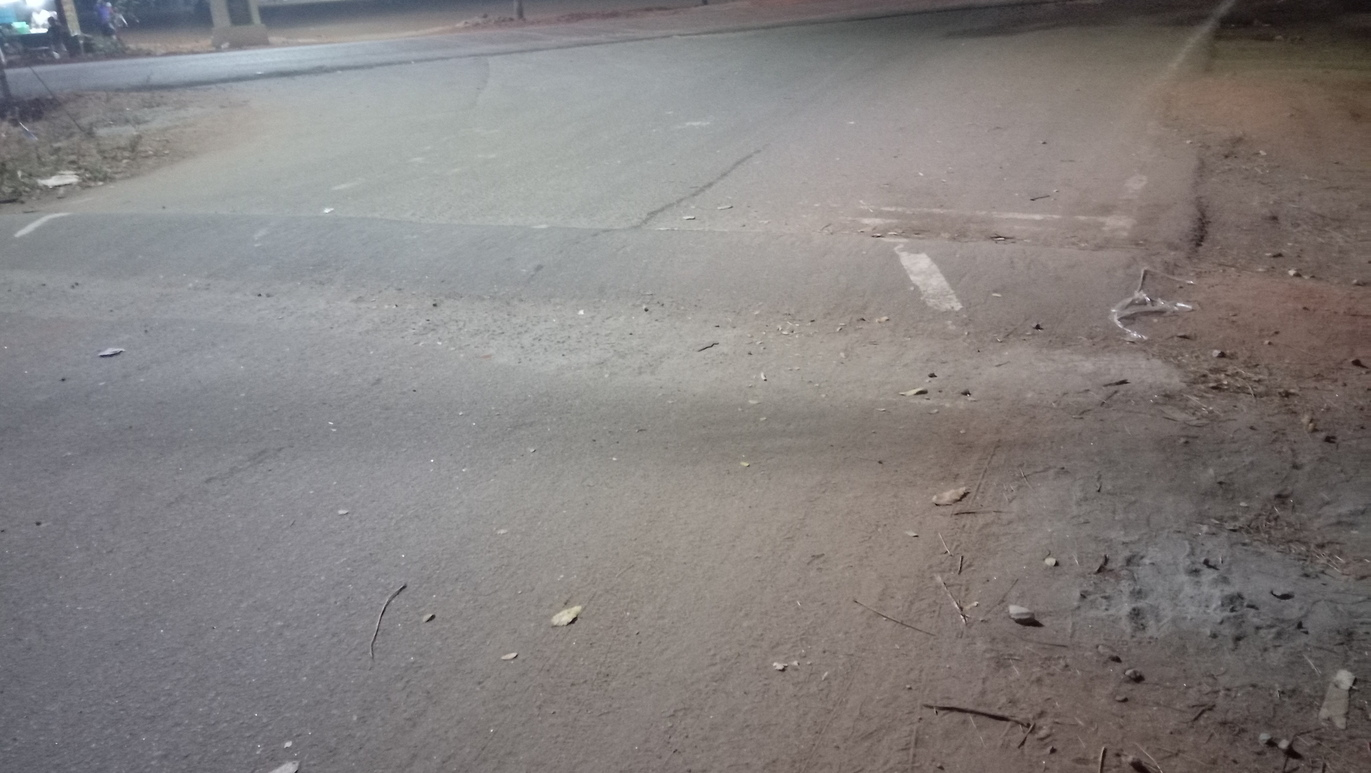bump: (1, 195, 1368, 395)
